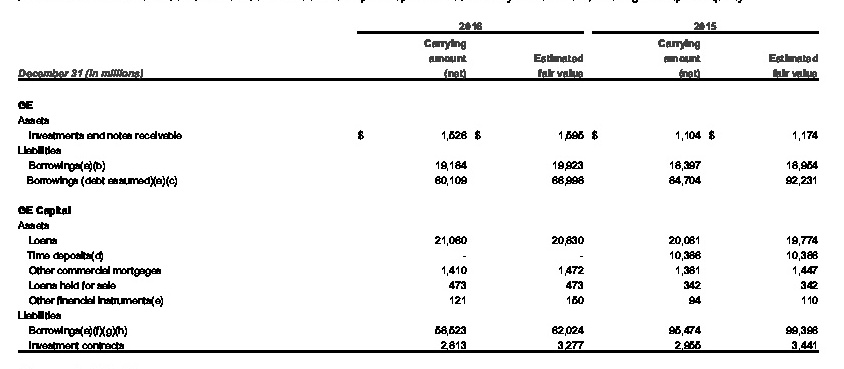table: (0, 0, 844, 369)
